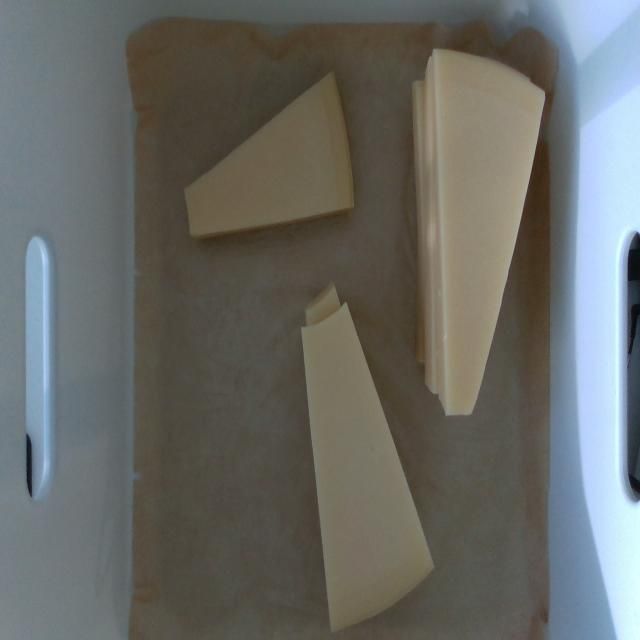Cheese: (302, 307, 432, 629), (433, 48, 546, 414), (185, 73, 354, 237)
